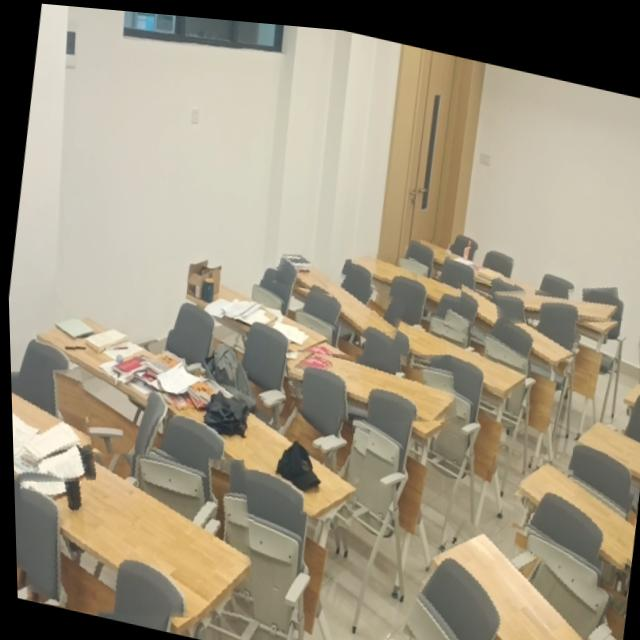Non-empty: (18, 449, 247, 614), (155, 373, 355, 512), (34, 312, 199, 401), (184, 265, 326, 348), (286, 349, 453, 414), (280, 249, 396, 335), (9, 383, 85, 482)
empty: (429, 520, 586, 640), (518, 452, 633, 558), (380, 309, 524, 385), (449, 280, 572, 361), (350, 247, 460, 299), (410, 231, 512, 277), (573, 411, 640, 470), (496, 282, 619, 311)
